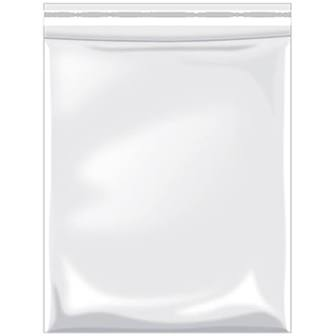PlasticBag: (38, 1, 300, 331)
